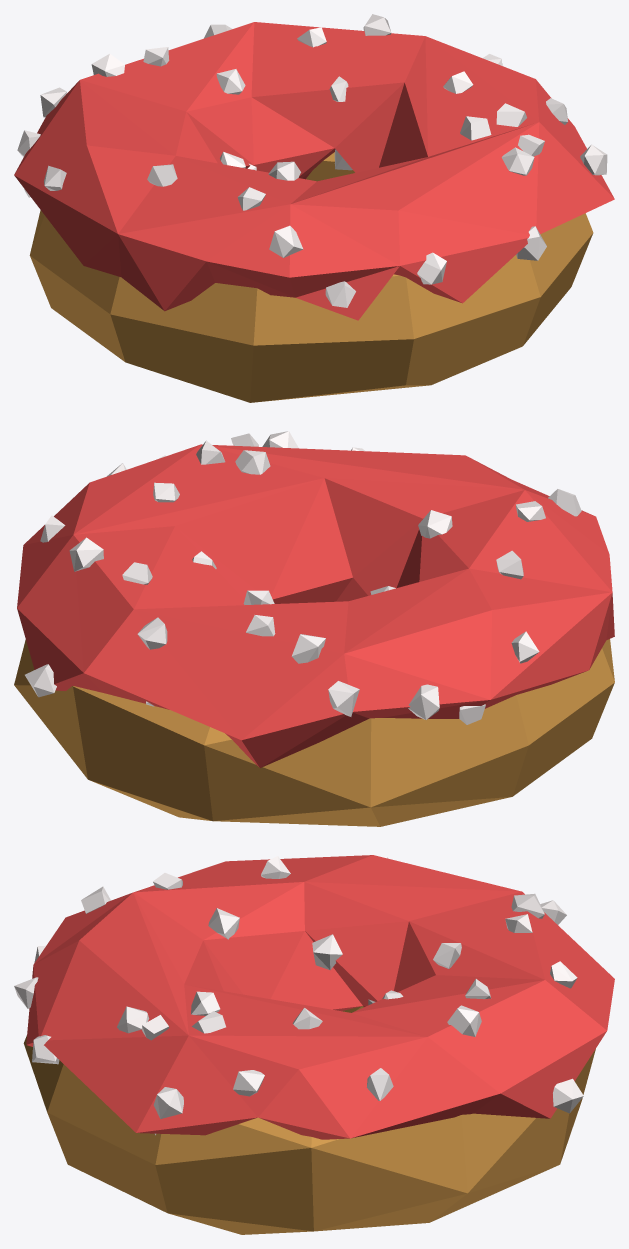
The model's file is donut.fbx.
3 renders of one model, top to bottom at view 1: azimuth 30°, elevation 25°; view 2: azimuth 150°, elevation 25°; view 3: azimuth 270°, elevation 25°, orthographic. The views are drawn at different scales.
Visible parts, largest first — view 1: Sphere.001; view 2: Sphere.001; view 3: Sphere.001.
Boxes of the visible parts, x1,y1,x2,y2 form: Sphere.001: (14, 14, 614, 402); Sphere.001: (14, 431, 614, 826); Sphere.001: (14, 855, 614, 1234).
Size of the model in its own units: 0.1617 by 0.0649 by 0.1652.
1 material, 1 textured.
